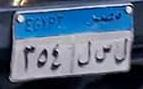3: (22, 43, 35, 73)
4: (49, 43, 63, 72)
5: (36, 48, 48, 70)
laam: (76, 40, 92, 67), (114, 37, 128, 64)
seen: (94, 44, 112, 65)
